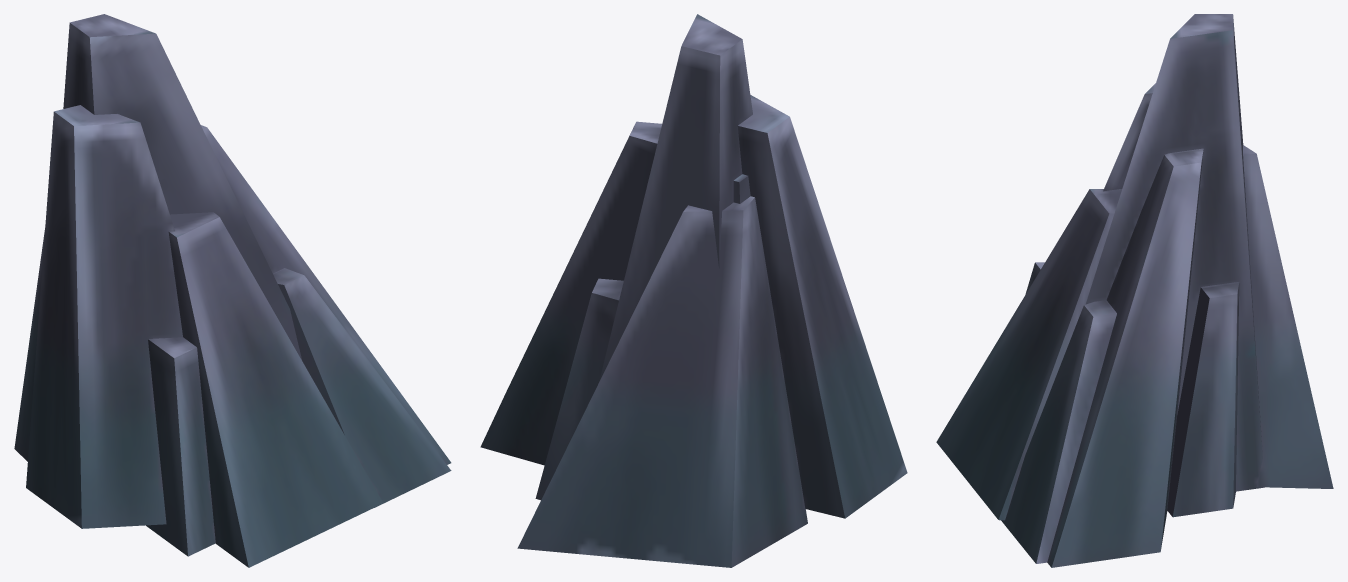
The model's file is Rock2.fbx.
3 views of the same model, side by side, from view 1: azimuth 30°, elevation 25°; view 2: azimuth 150°, elevation 25°; view 3: azimuth 270°, elevation 25° (orthographic). The views are drawn at different scales.
Visible parts, largest first — view 1: Rock2; view 2: Rock2; view 3: Rock2.
Boxes of the visible parts, box(x1,y1,x2,y2) form: Rock2: box(14, 14, 451, 567); Rock2: box(480, 14, 907, 567); Rock2: box(936, 14, 1333, 567).
Bounding box in the file's own units: 330 × 382 × 327.
